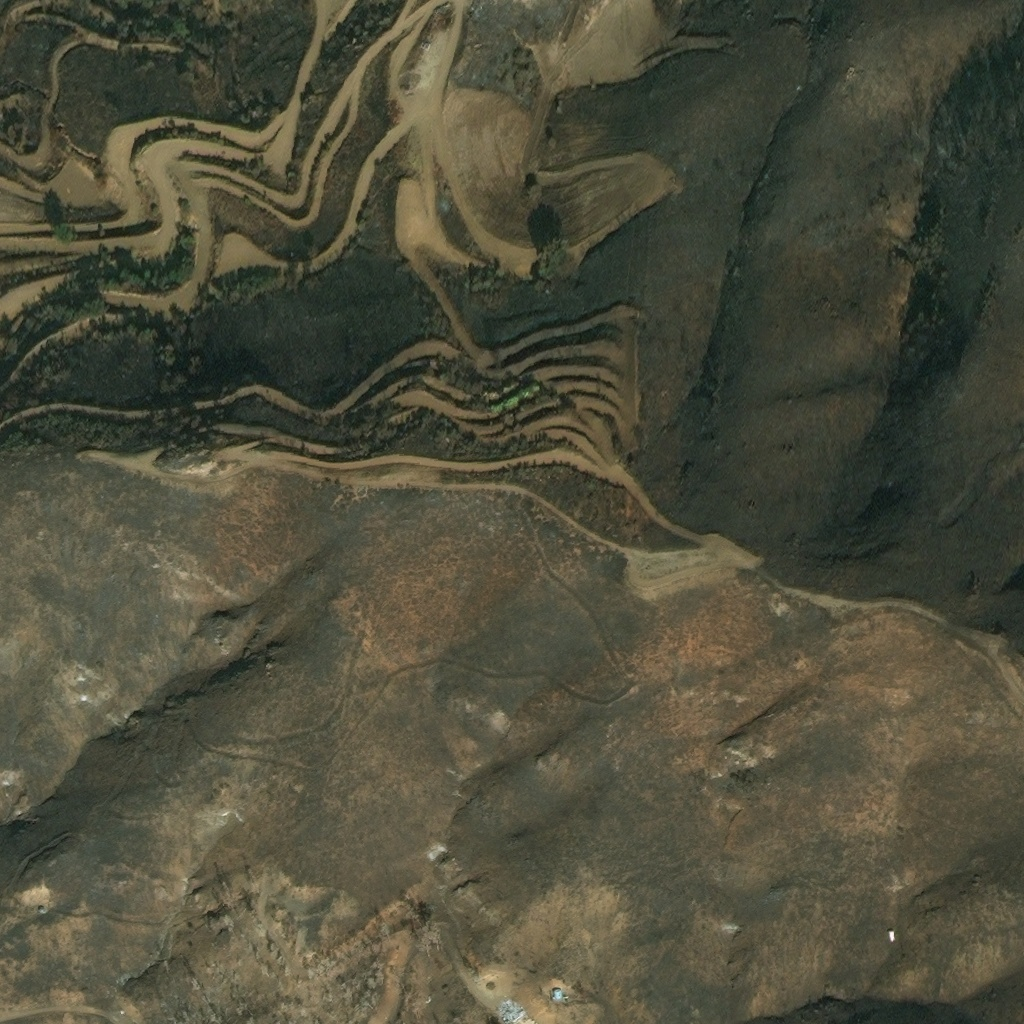0 no-damage: (549, 990, 563, 1003)
3 destroyed: (495, 997, 526, 1023)
